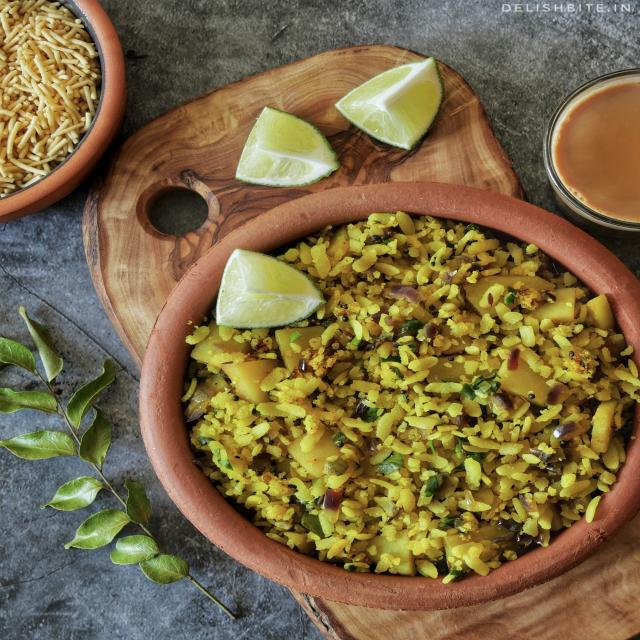POHA: (186, 215, 638, 575)
